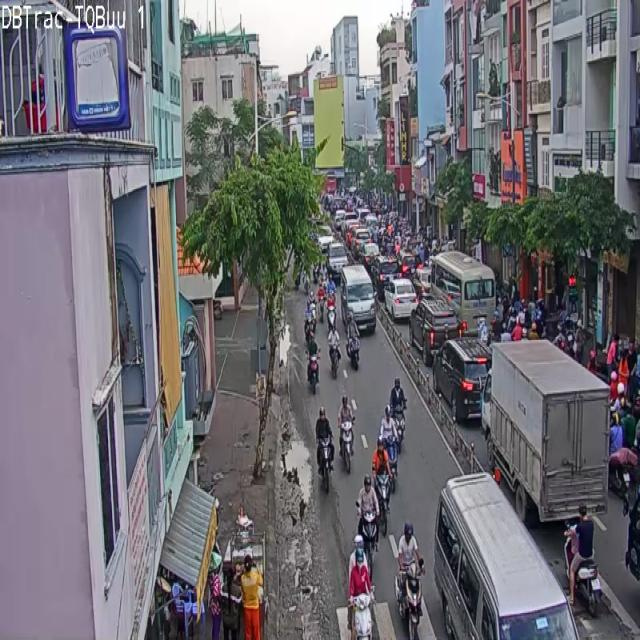car: (395, 536, 423, 639), (348, 548, 372, 639), (356, 478, 378, 555)
traffic-light: (434, 474, 578, 639), (434, 338, 487, 420), (411, 297, 459, 366), (340, 265, 375, 333)
